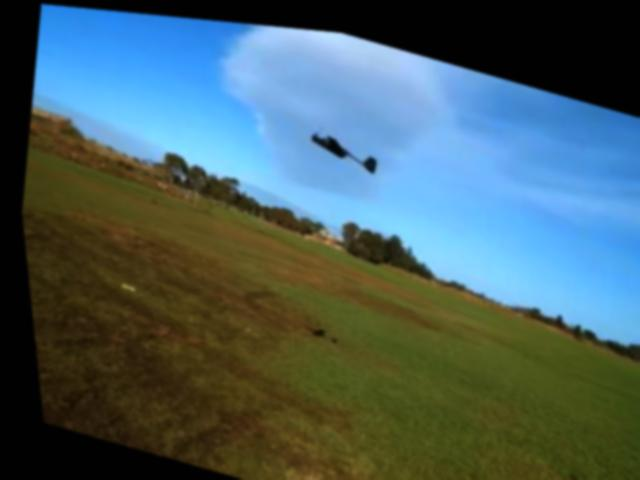uav: (297, 110, 385, 175)
